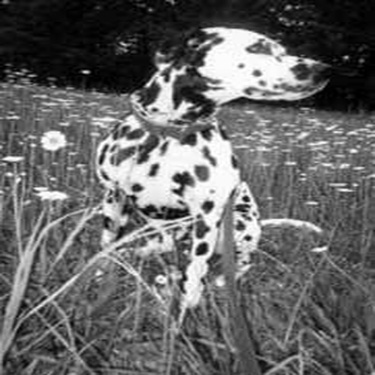dog: (79, 12, 341, 352)
